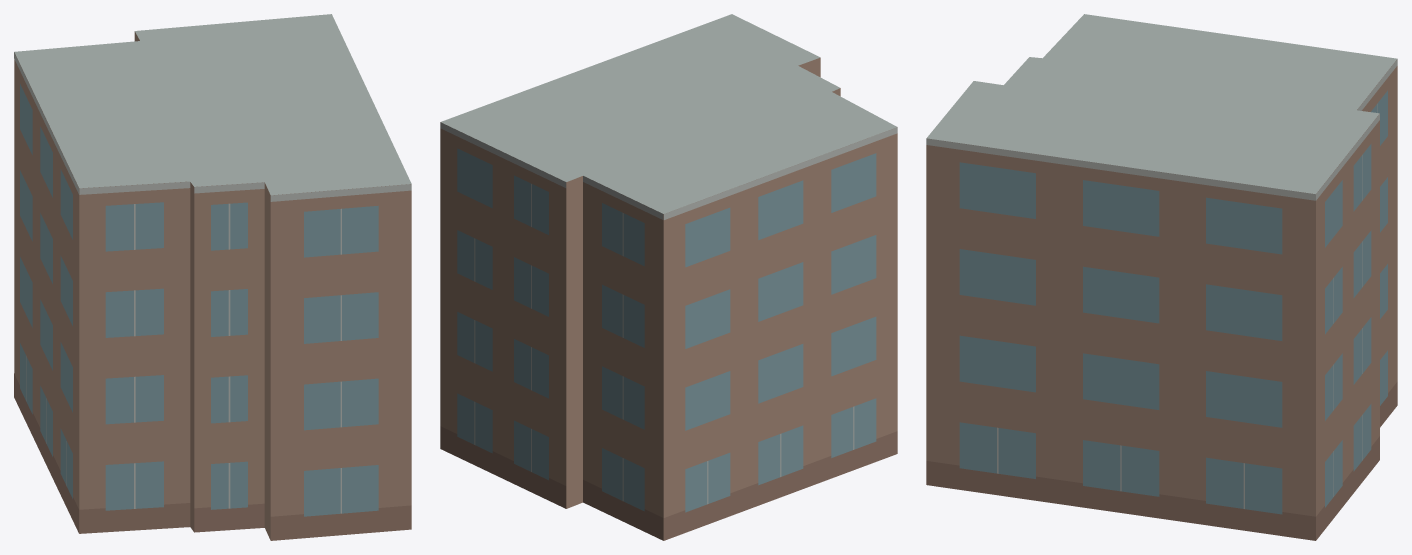
File: survey-upis-32773502.glb
3 renders of one model, left to right at view 1: azimuth 30°, elevation 25°; view 2: azimuth 150°, elevation 25°; view 3: azimuth 270°, elevation 25°, orthographic. The views are drawn at different scales.
Parts seen in each view (by area): view 1: survey-upis-32773502.tmp; view 2: survey-upis-32773502.tmp; view 3: survey-upis-32773502.tmp.
Part boxes in pixels (bbox=[...]): survey-upis-32773502.tmp: bbox=[14, 14, 411, 540]; survey-upis-32773502.tmp: bbox=[440, 14, 897, 540]; survey-upis-32773502.tmp: bbox=[926, 14, 1397, 540].
Size of the model in its own units: 14.28 by 12.8 by 15.78.
